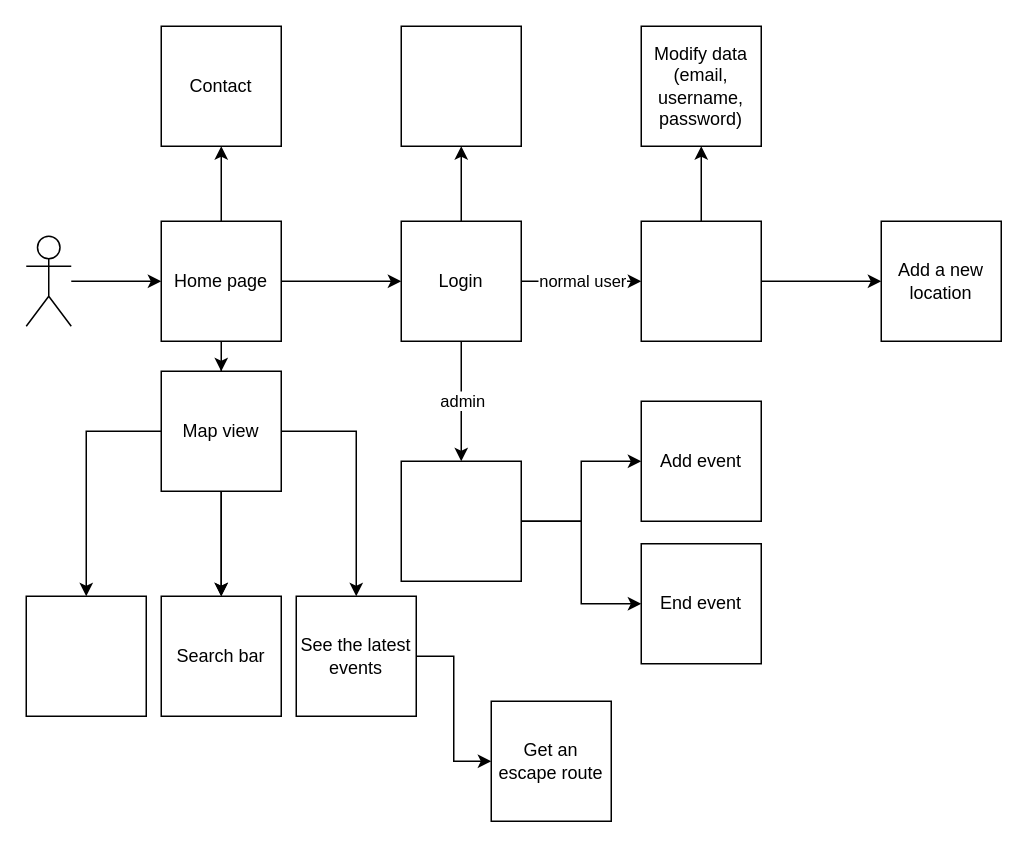
Image size: 1028x848. Some labels were removed from this diagram. The centre of each missing label's shape, as x and y in pixels:
"Account page" goes at pixel 700 280.
"Apply filters" goes at pixel 85 655.
"Client" goes at pixel 48 280.
"Dashboard" goes at pixel 460 520.
"Register" goes at pixel 460 85.
